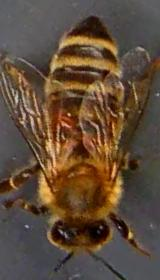varroa_mite: (56, 102, 76, 130)
